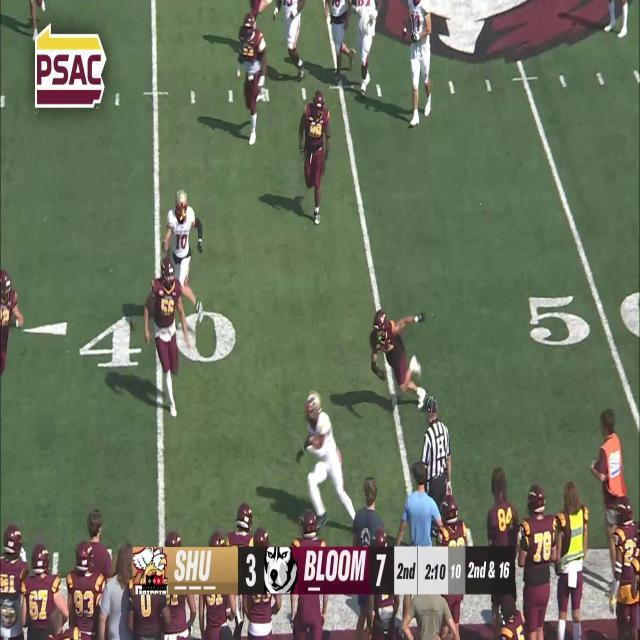football: (306, 434, 324, 450)
